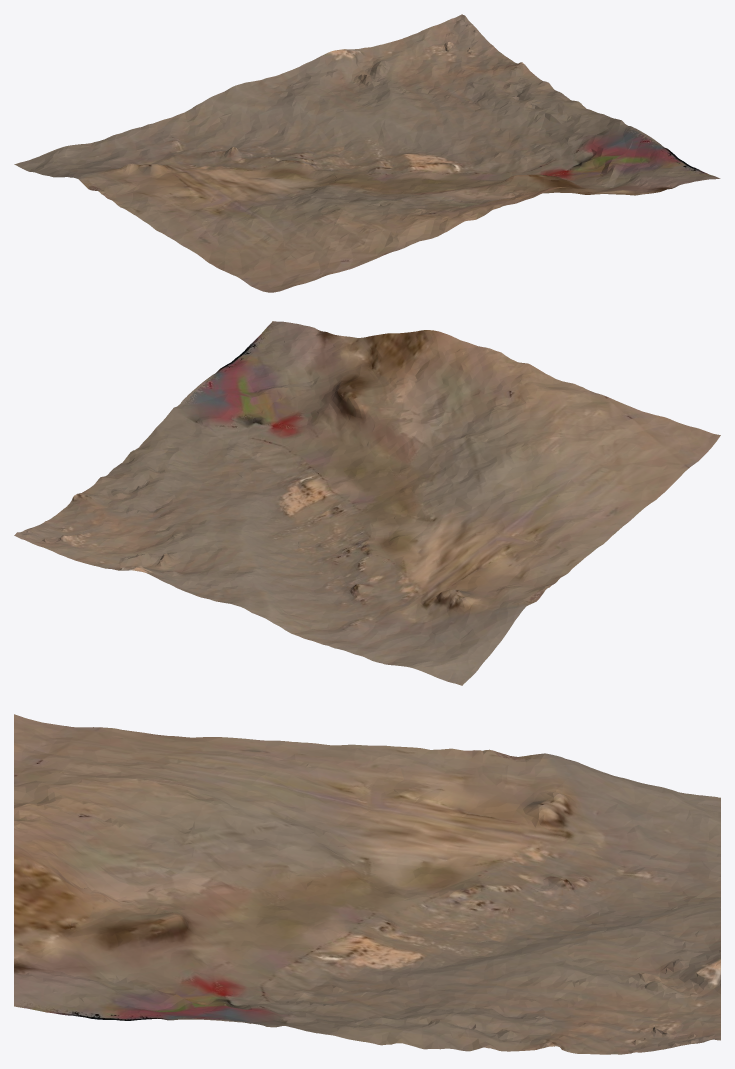
The picture shows the model from 3 angles, top to bottom: view 1: azimuth 30°, elevation 25°; view 2: azimuth 150°, elevation 25°; view 3: azimuth 270°, elevation 25°; orthographic projection. The views are drawn at different scales.
Bounding box in the file's own units: 2.09 × 0.4282 × 2.09.
Materials: 2 (2 with a texture image).
